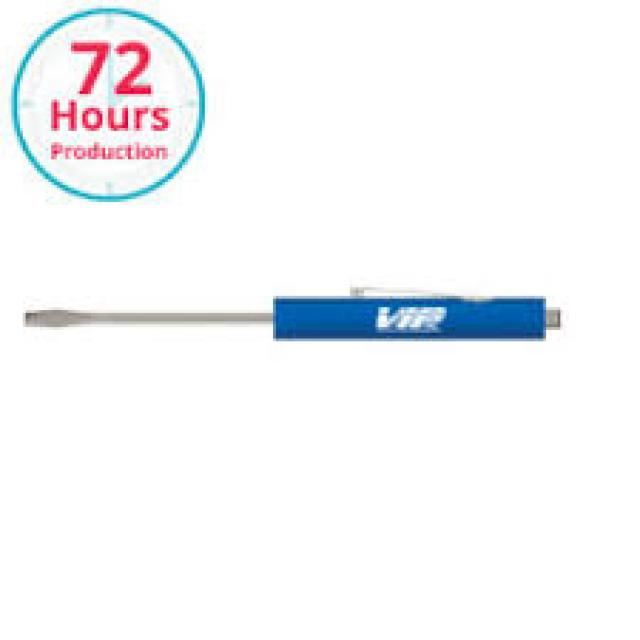screw driver: (4, 267, 623, 373)
